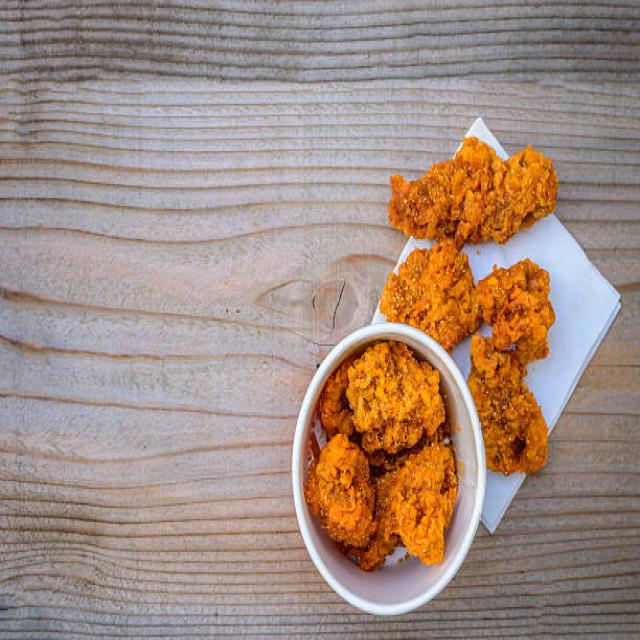Frango: (302, 338, 464, 579)
